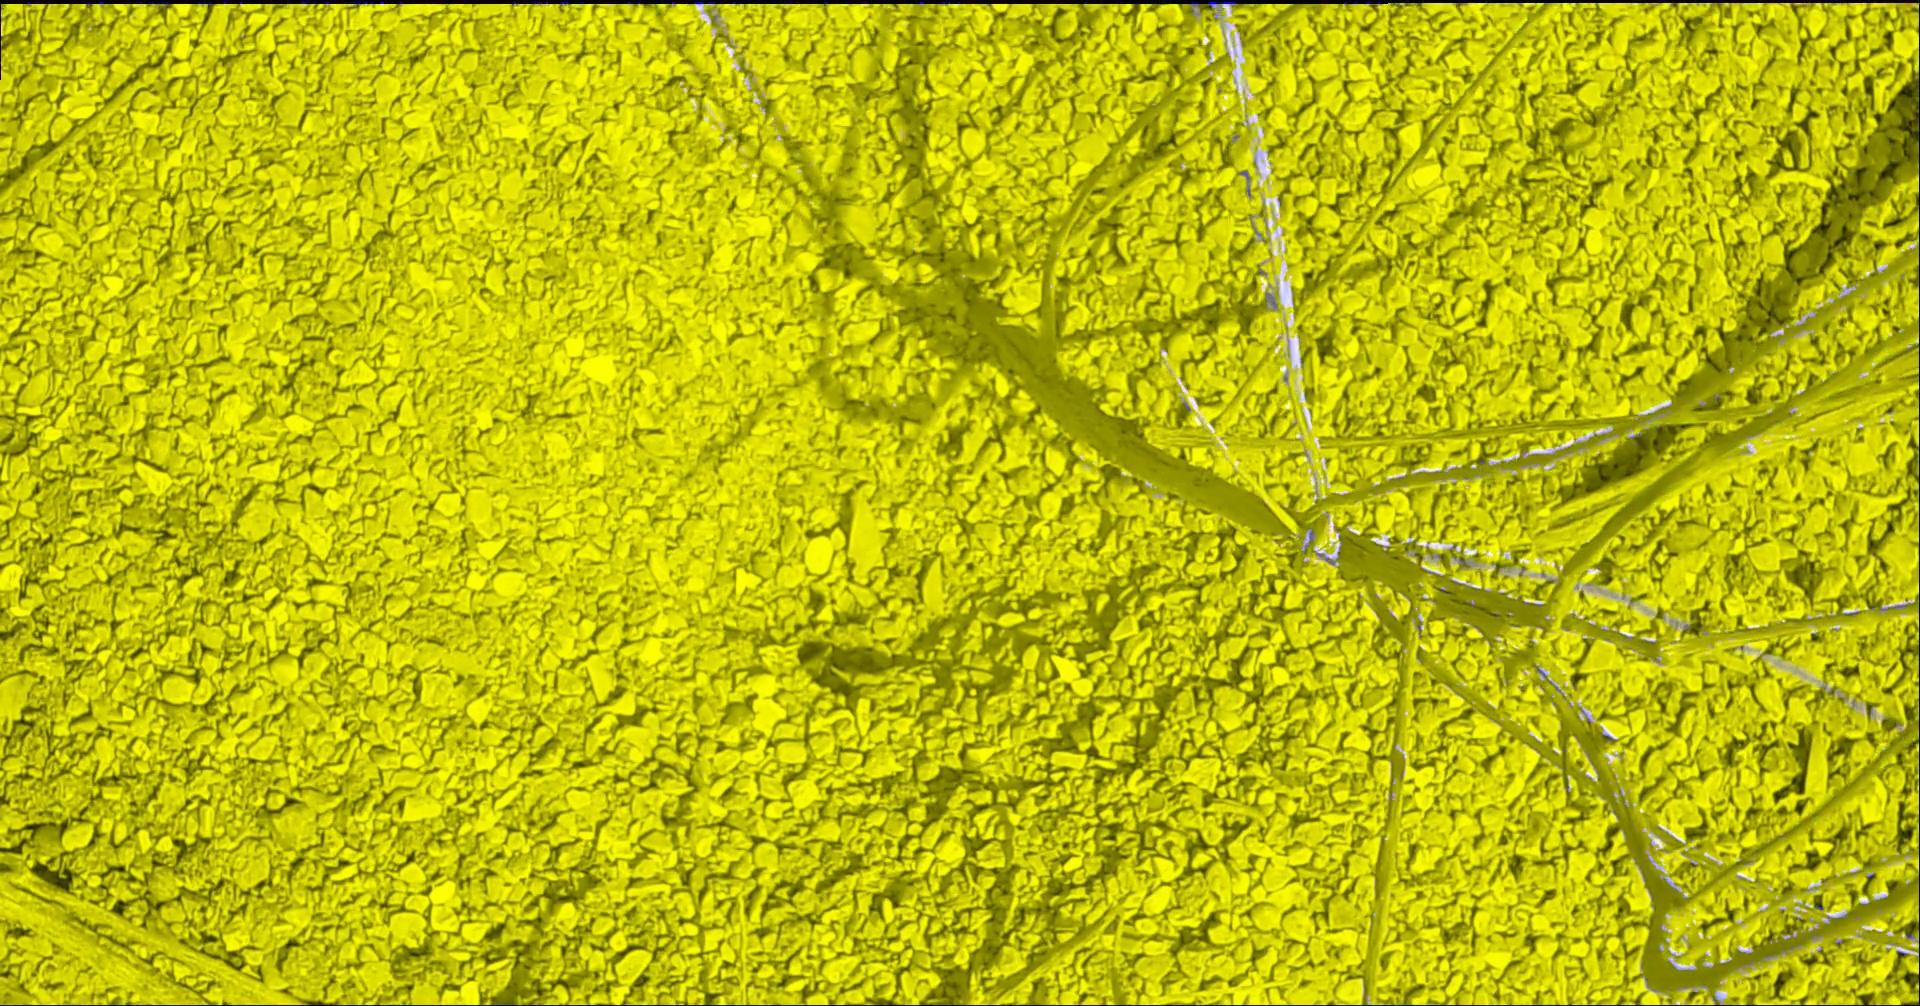ant: (1206, 0, 1237, 6), (345, 0, 373, 4), (692, 0, 723, 3)
